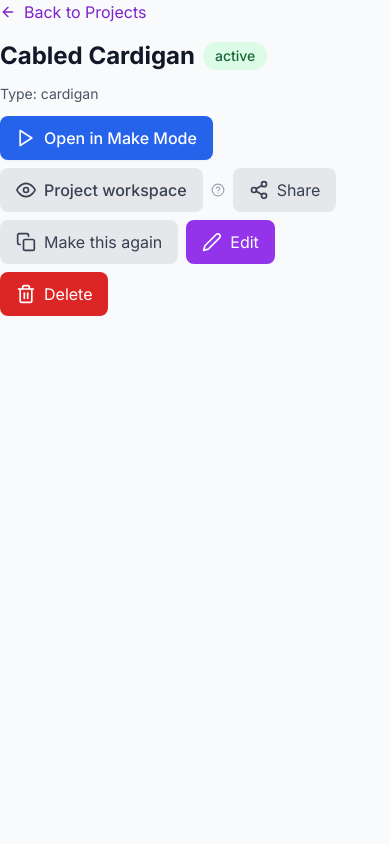
it: ProjectHeader unified Make Mode entry › shows mixed canonical + legacy patterns in the picker, with legacy rows disabled
What coordinates should you click on to do the following:
click the button with test id "project-open-make-mode"
I would click on:
 (106, 138)
Its box is [0,116,213,160].
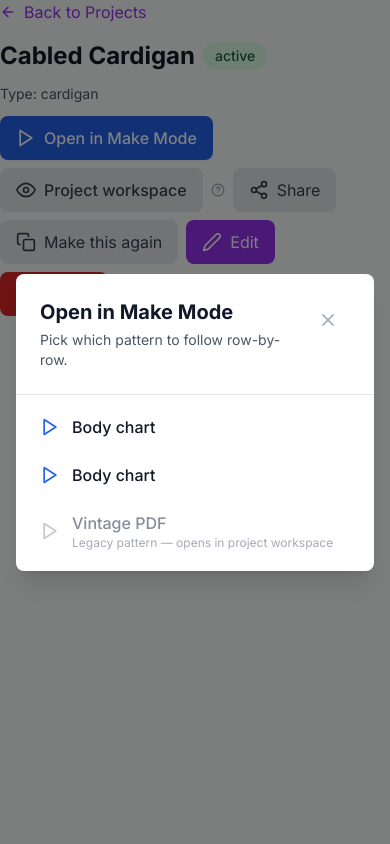
Expected: the number of links with test id "make-mode-picker-canonical-row" is 2, [40,416,156,436]; [40,464,156,484]
Expected: the number of list items with test id "make-mode-picker-legacy-row" is 1, [40,512,333,550]
Expected: the list item with test id "make-mode-picker-legacy-row" shows "Legacy pattern", [72,534,333,550]
